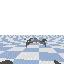drone: (24, 38, 47, 47)
